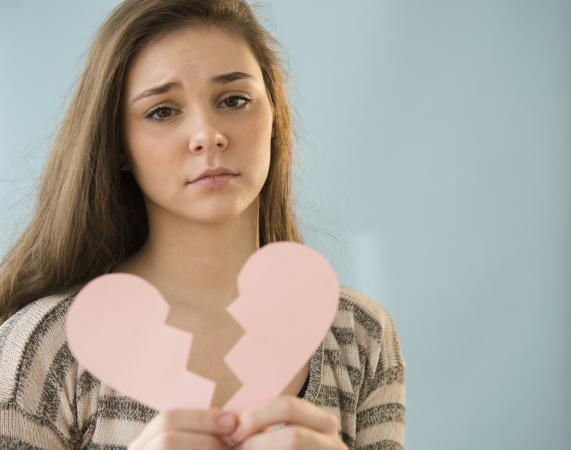sad: (108, 38, 279, 217)
